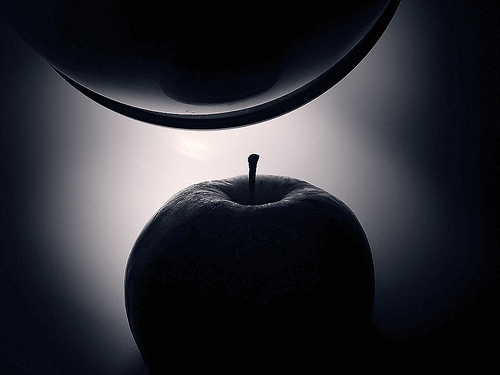apple: (125, 155, 380, 374)
